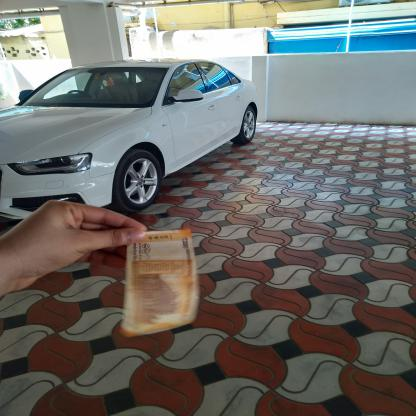New200Back: (126, 228, 196, 334)
